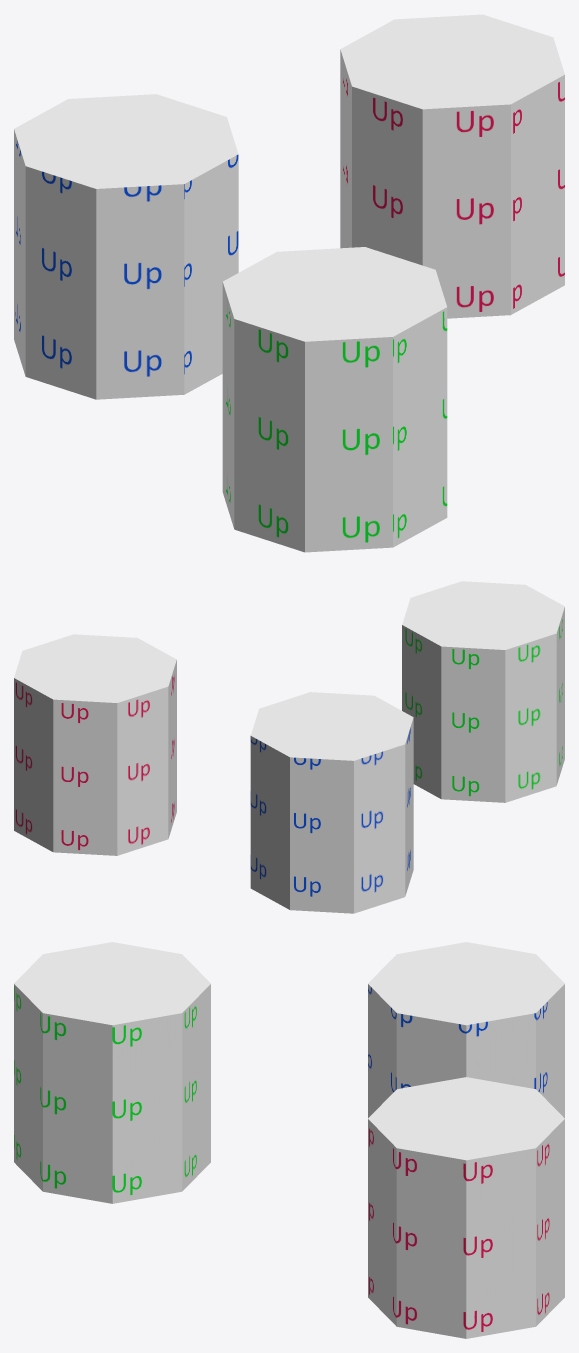
Rendered from TextureTest.dae.
3 views of the same model, one above another, from view 1: azimuth 30°, elevation 25°; view 2: azimuth 150°, elevation 25°; view 3: azimuth 270°, elevation 25° (orthographic). The views are drawn at different scales.
Parts seen in each view (by area): view 1: Cylinder3, Cylinder, Cylinder2; view 2: Cylinder, Cylinder2, Cylinder3; view 3: Cylinder3, Cylinder2, Cylinder.
Part boxes in pixels (box(x1,y1,x2,y2)): Cylinder3: box(222, 247, 447, 552); Cylinder: box(14, 94, 238, 399); Cylinder2: box(340, 14, 564, 318); Cylinder: box(250, 692, 413, 913); Cylinder2: box(14, 634, 176, 855); Cylinder3: box(402, 581, 564, 802); Cylinder3: box(14, 942, 210, 1203); Cylinder2: box(368, 1077, 564, 1338); Cylinder: box(368, 942, 564, 1118).
Size of the model in its own units: 5.24 by 5.59 by 2.
3 materials, 3 textured.
